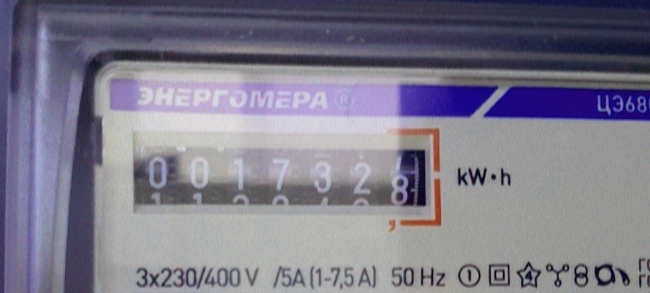0: (148, 153, 170, 190), (190, 155, 210, 189)
1: (233, 155, 248, 191)
2: (351, 160, 372, 196)
3: (312, 159, 334, 194)
7: (269, 155, 293, 192)
8: (390, 172, 409, 207)
screen: (124, 128, 446, 229)
